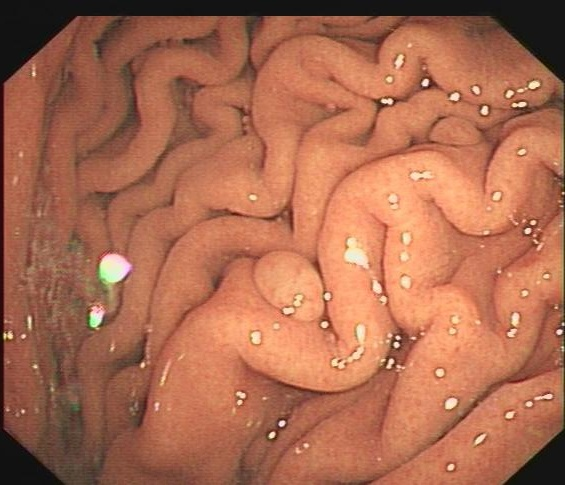Polyp: (233, 234, 340, 329), (420, 101, 495, 174)
